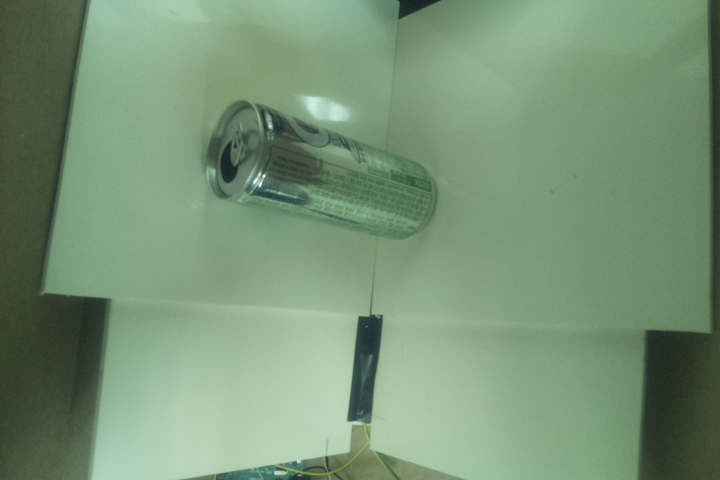can: (202, 97, 441, 243)
